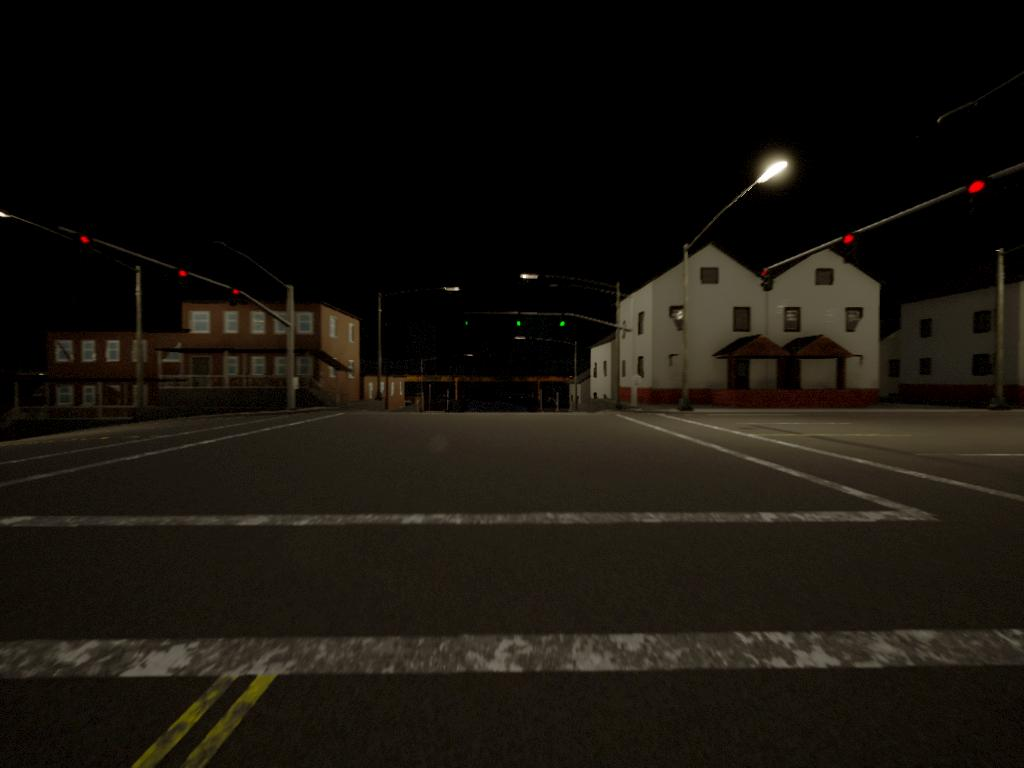traffic_light: (964, 176, 991, 228), (760, 268, 773, 295), (844, 233, 856, 260), (78, 232, 92, 255), (178, 267, 189, 288), (231, 283, 243, 302), (559, 314, 566, 332), (462, 317, 472, 329), (515, 318, 523, 332)
